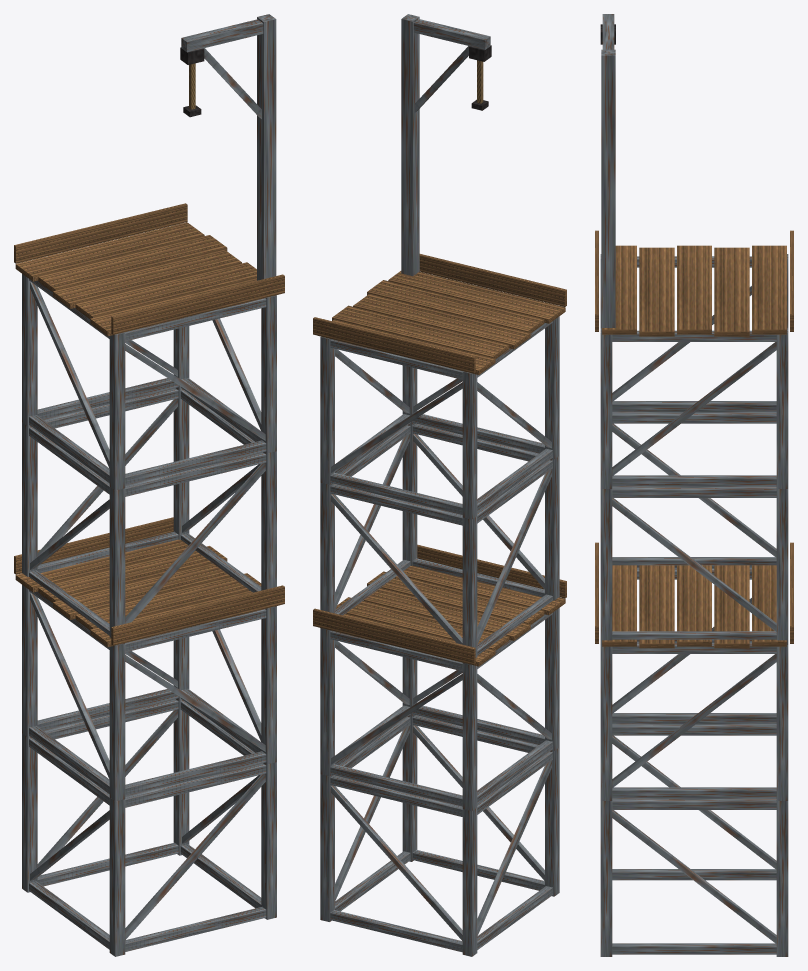
The model's file is Scaffold.fbx.
3 renders of one model, left to right at view 1: azimuth 30°, elevation 25°; view 2: azimuth 150°, elevation 25°; view 3: azimuth 270°, elevation 25°, orthographic. The views are drawn at different scales.
Parts seen in each view (by area): view 1: Scaff_4, Scaff_2, Scaff_1, Scaff_3; view 2: Scaff_4, Scaff_2, Scaff_1, Scaff_3; view 3: Scaff_4, Scaff_2, Scaff_1, Scaff_3.
Part boxes in pixels (left/top/right/bottom): Scaff_4: left=14, top=14, right=284, bottom=490; Scaff_2: left=14, top=517, right=284, bottom=801; Scaff_1: left=22, top=698, right=276, bottom=956; Scaff_3: left=22, top=387, right=276, bottom=645; Scaff_4: left=313, top=14, right=566, bottom=519; Scaff_2: left=313, top=544, right=566, bottom=810; Scaff_1: left=320, top=714, right=559, bottom=956; Scaff_3: left=320, top=423, right=559, bottom=665; Scaff_4: left=595, top=14, right=793, bottom=488; Scaff_2: left=595, top=542, right=793, bottom=800; Scaff_1: left=600, top=724, right=788, bottom=956; Scaff_3: left=600, top=412, right=788, bottom=644.
Bounding box in the file's own units: 1.06 × 5.2 × 1.04.
